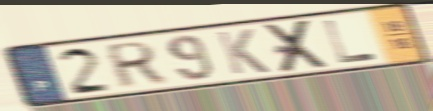2: (55, 46, 114, 95)
9: (165, 34, 216, 83)
K: (213, 27, 273, 77)
L: (320, 18, 380, 66)
R: (104, 39, 168, 90)
X: (261, 17, 333, 75)
